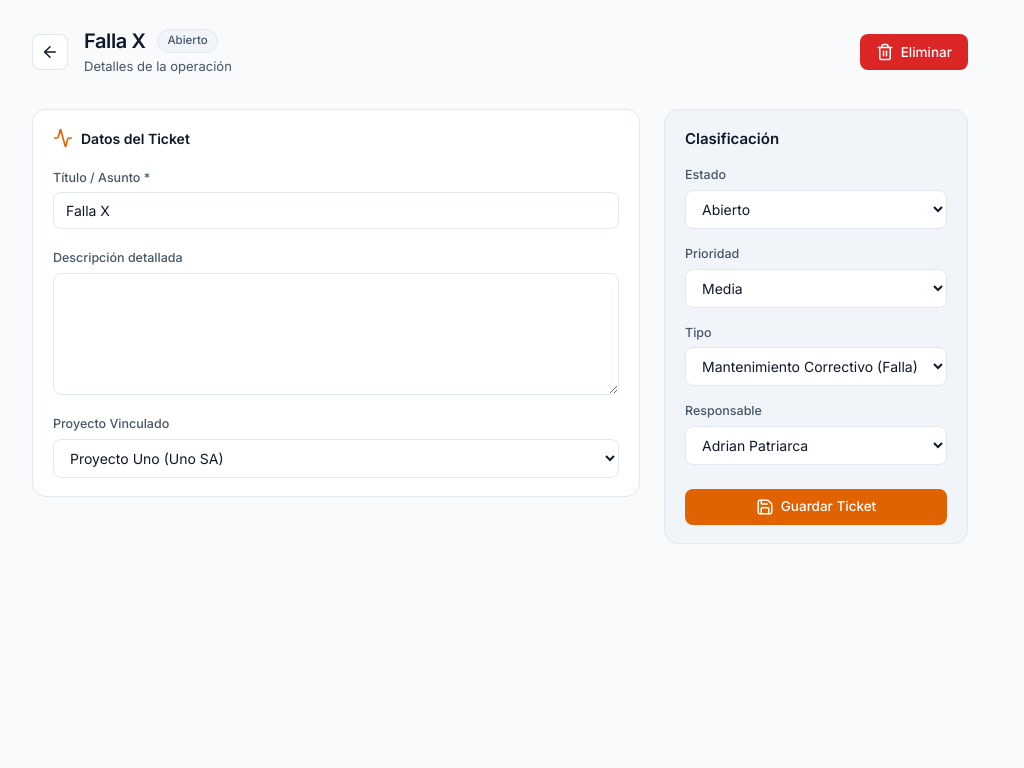
TicketDetalle — pantalla › el cartel de estado de arriba no cambia hasta guardar
The image size is (1024, 768).
Expected: the field showing "Falla X" is shown, [53,192,619,229]
Expected: the text with class "badge" reads "Abierto", [168,33,208,47]
Select "Resuelto" in the dropdown below "Estado" at point(816, 209), box [685,190,947,229]
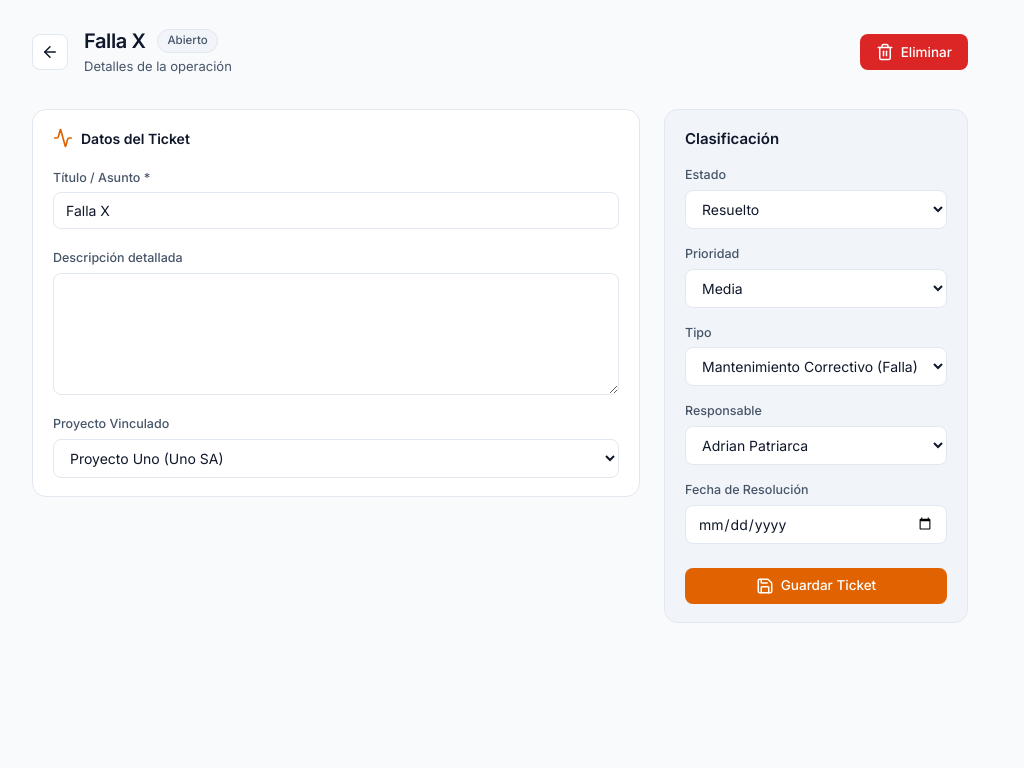
Expected: the text with class "badge" reads "Abierto", [168,33,208,47]
Click the button "Guardar Ticket" at point(816, 586), box [685,568,947,604]
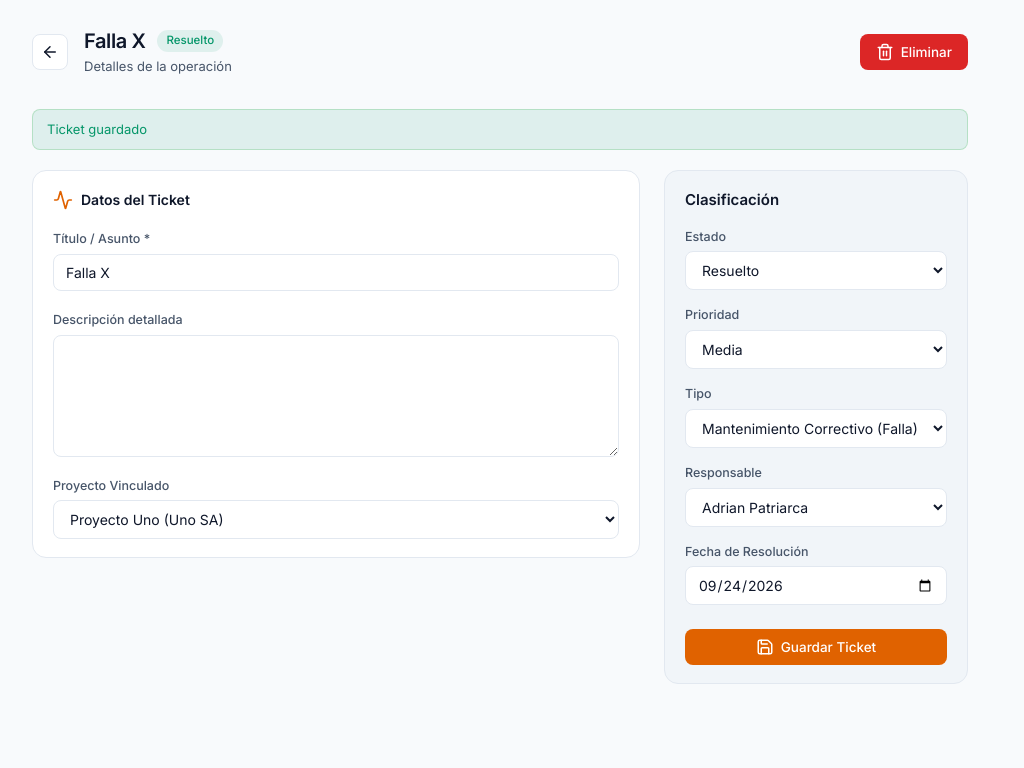
Expected: the text with class "badge" reads "Resuelto", [166,33,214,47]
